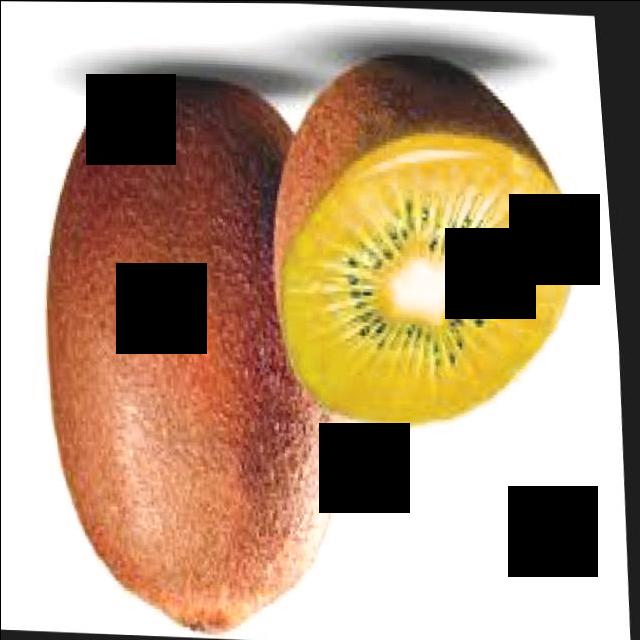kiwi: (18, 70, 375, 640)
